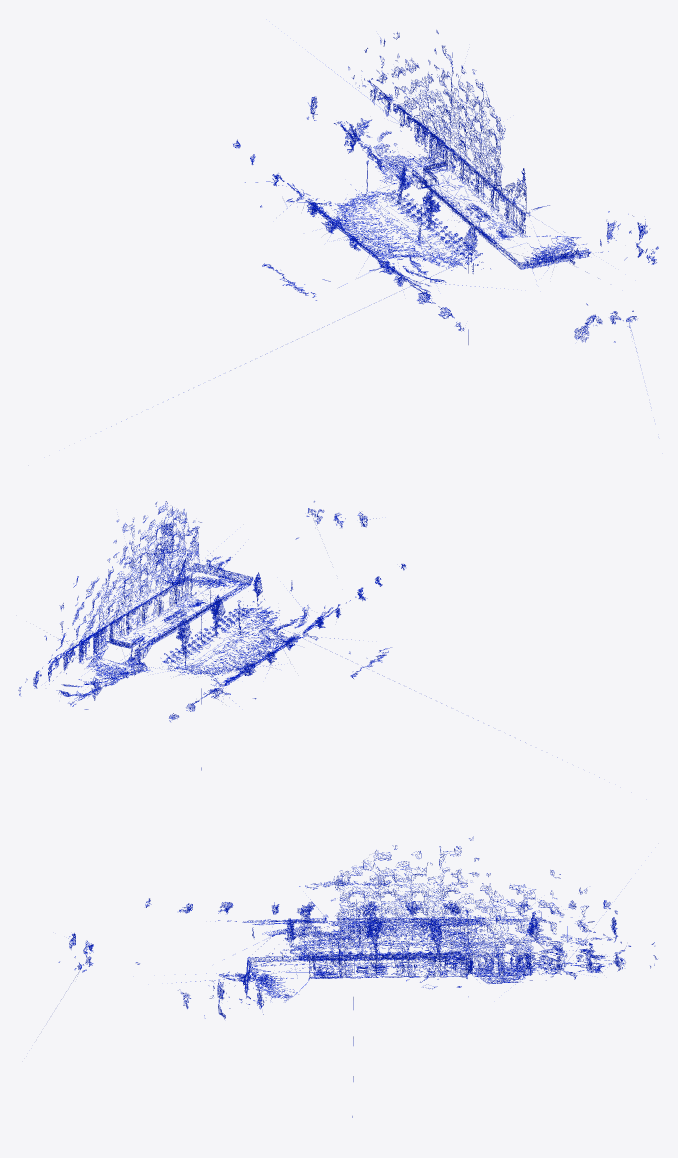
The model's file is Wireframe Decimate 3.fbx.
3 views of the same model, one above another, from view 1: azimuth 30°, elevation 25°; view 2: azimuth 150°, elevation 25°; view 3: azimuth 270°, elevation 25° (orthographic). The views are drawn at different scales.
Visible parts, largest first — view 1: 1st Building 3; view 2: 1st Building 3; view 3: 1st Building 3.
Boxes of the visible parts, box(x1,y1,x2,y2) form: 1st Building 3: box(111, 30, 658, 426); 1st Building 3: box(18, 501, 599, 777); 1st Building 3: box(58, 836, 657, 1117).
Size of the model in its own units: 9287 by 4863 by 8887.
